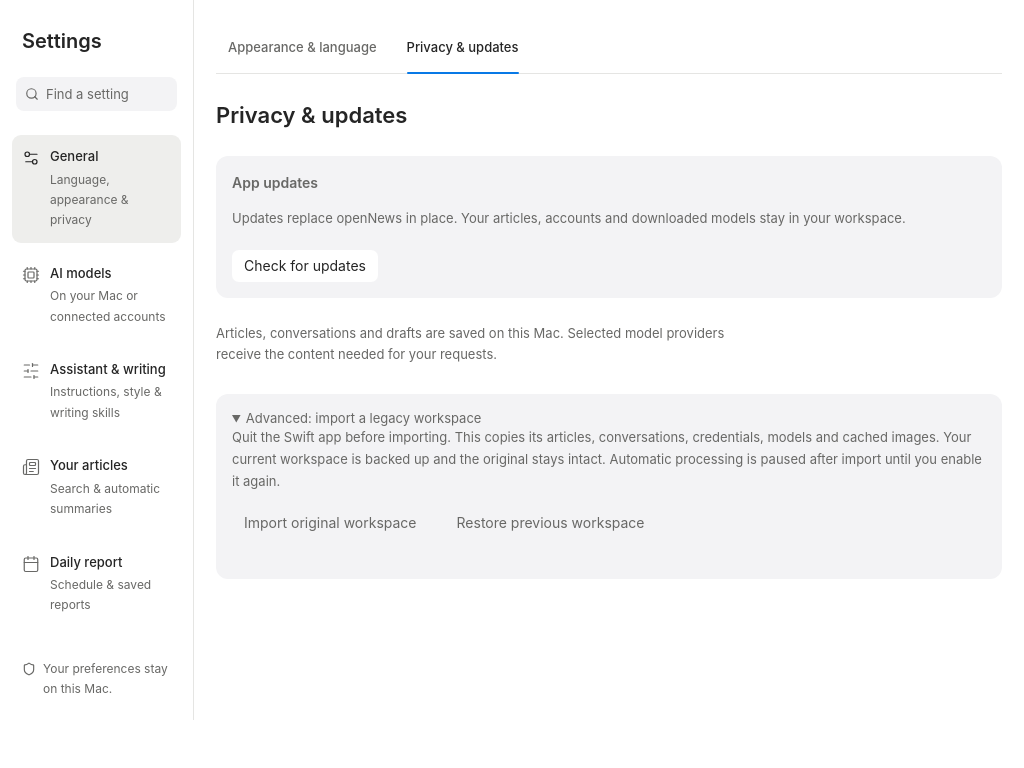
Test: requires an explicit decision before replacing a workspace
Click the button "Import original workspace".
click(330, 522)  # box x1=232 y1=505 x2=428 y2=539
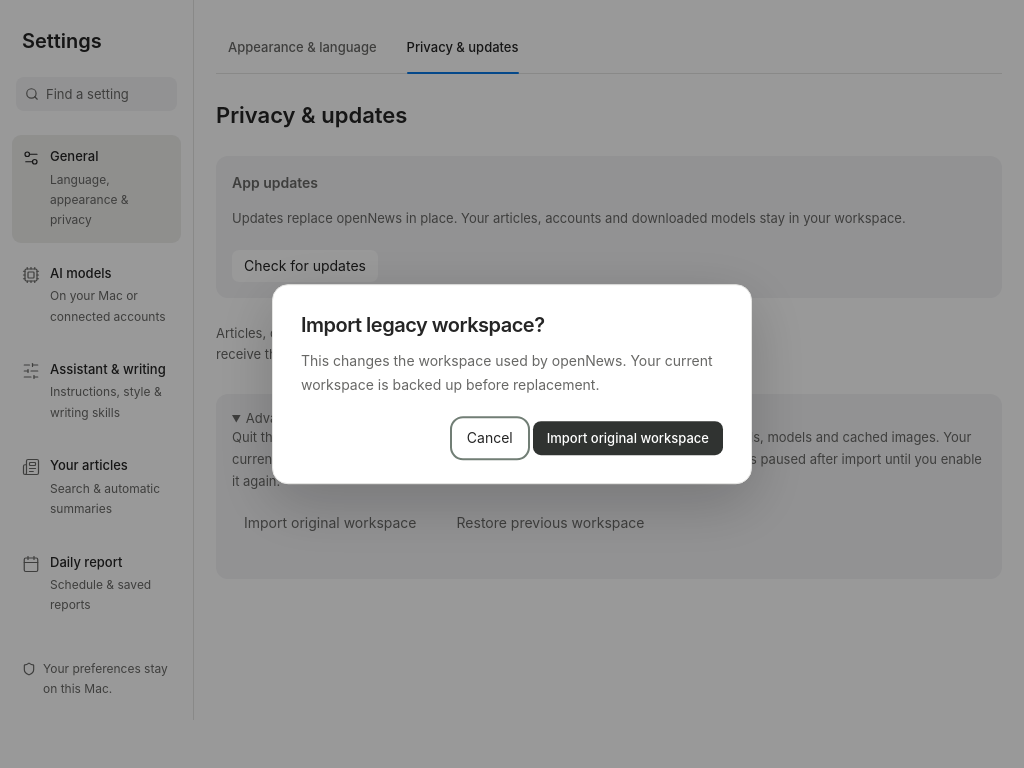
Result: the dialog "Import legacy workspace?" is shown at x1=272 y1=284 x2=752 y2=484
Click the button "Cancel".
click(490, 438)  # box x1=455 y1=421 x2=525 y2=455
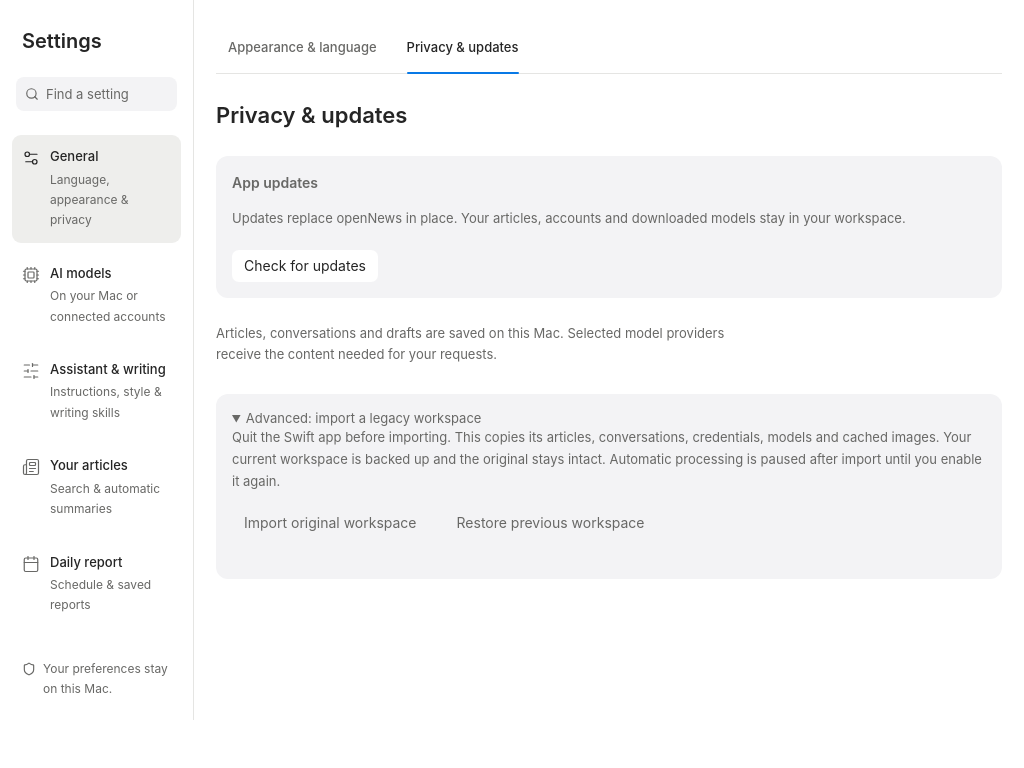
Result: the dialog is gone
